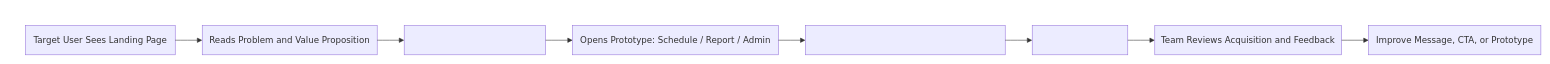
Image size: 1550x64. Some labels were removed from this diagram. The shapes that lost their labels are listed below. From the top down, each one's box as (x1, y1, x2, y2) in pixels, then its label:
(404, 25, 546, 55): Clicks Try the Prototype CTA
(805, 25, 1005, 55): Searches / Submits / Views / Updates Data
(1032, 25, 1128, 55): Metric Recorded
